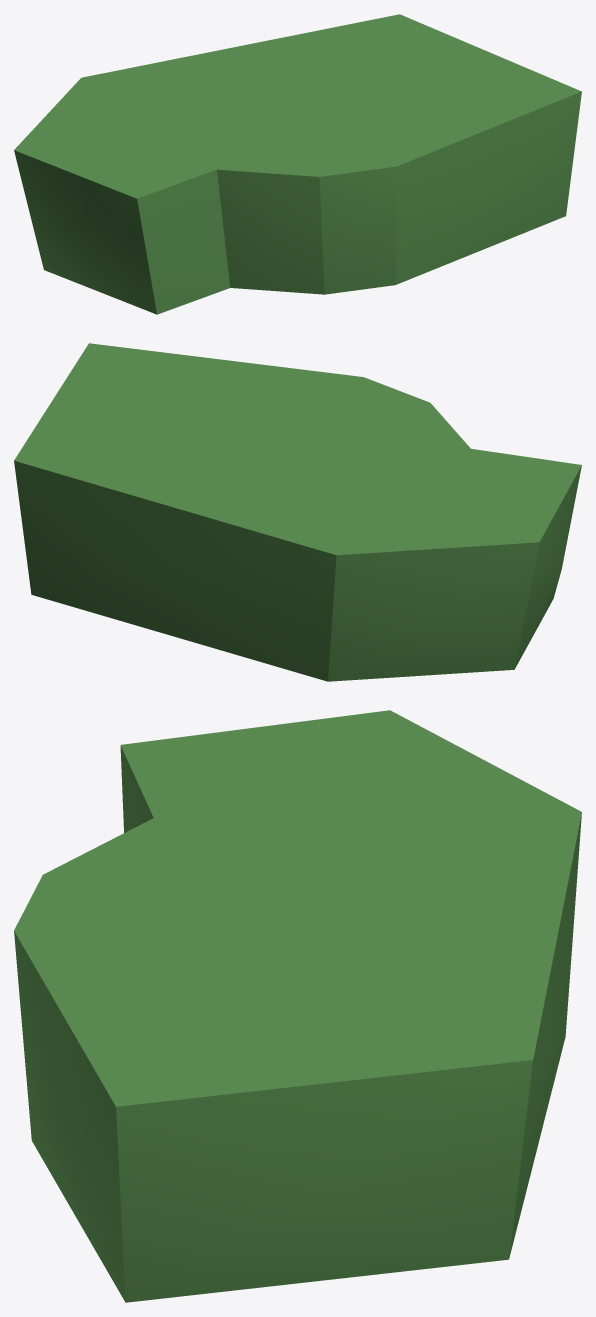
The model's file is grass_ledge_2.fbx.
3 renders of one model, top to bottom at view 1: azimuth 30°, elevation 25°; view 2: azimuth 150°, elevation 25°; view 3: azimuth 270°, elevation 25°, orthographic. The views are drawn at different scales.
Visible parts, largest first — view 1: BezierCurve; view 2: BezierCurve; view 3: BezierCurve.
Boxes of the visible parts, x1=… form: BezierCurve: x1=14, y1=14, x2=581, y2=314; BezierCurve: x1=14, y1=343, x2=581, y2=681; BezierCurve: x1=14, y1=710, x2=581, y2=1302.
Size of the model in its own units: 282 by 68.6 by 171.
